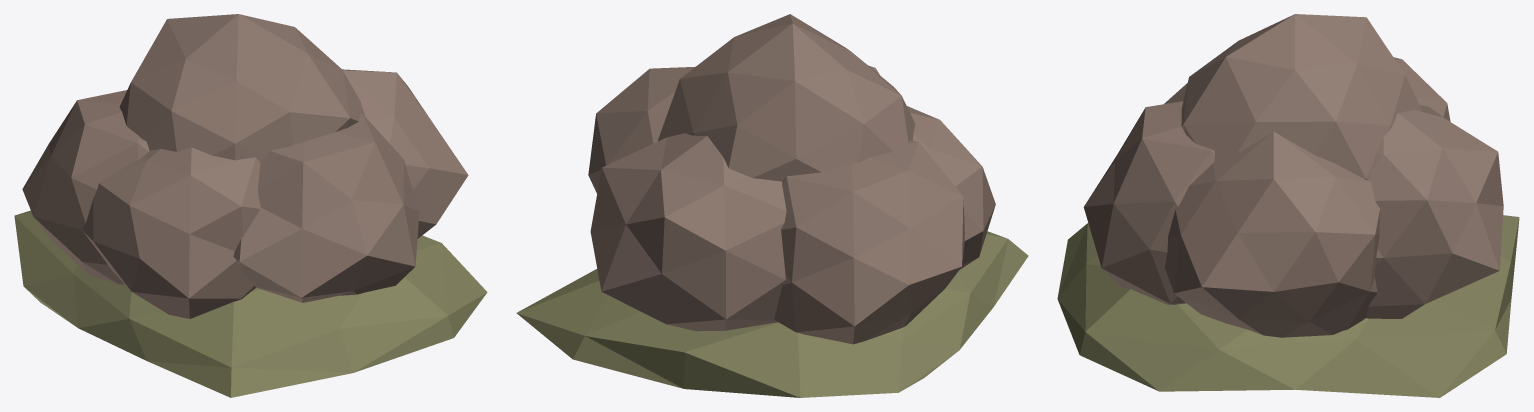
Rendered from vge_egg_sac_a.obj.
The picture shows the model from 3 angles, left to right: view 1: azimuth 30°, elevation 25°; view 2: azimuth 150°, elevation 25°; view 3: azimuth 270°, elevation 25°; orthographic projection. The views are drawn at different scales.
Visible parts, largest first — view 1: vge_egg_sac_a_0, vge_egg_sac_a_6, vge_egg_sac_a_5, vge_egg_sac_a_4, vge_egg_sac_a_3, vge_egg_sac_a_1; view 2: vge_egg_sac_a_0, vge_egg_sac_a_2, vge_egg_sac_a_3, vge_egg_sac_a_6, vge_egg_sac_a_1, vge_egg_sac_a_4; view 3: vge_egg_sac_a_0, vge_egg_sac_a_1, vge_egg_sac_a_6, vge_egg_sac_a_2, vge_egg_sac_a_5, vge_egg_sac_a_3.
Part boxes in pixels (x1=…): vge_egg_sac_a_0: x1=14, y1=210, x2=487, y2=397; vge_egg_sac_a_6: x1=119, y1=14, x2=365, y2=162; vge_egg_sac_a_5: x1=233, y1=113, x2=419, y2=302; vge_egg_sac_a_4: x1=82, y1=147, x2=260, y2=318; vge_egg_sac_a_3: x1=22, y1=90, x2=149, y2=284; vge_egg_sac_a_1: x1=342, y1=69, x2=468, y2=238; vge_egg_sac_a_0: x1=516, y1=231, x2=1028, y2=397; vge_egg_sac_a_2: x1=590, y1=133, x2=786, y2=331; vge_egg_sac_a_3: x1=774, y1=140, x2=964, y2=344; vge_egg_sac_a_6: x1=657, y1=14, x2=915, y2=181; vge_egg_sac_a_1: x1=588, y1=66, x2=695, y2=193; vge_egg_sac_a_4: x1=907, y1=106, x2=995, y2=269; vge_egg_sac_a_0: x1=1057, y1=215, x2=1519, y2=397; vge_egg_sac_a_1: x1=1165, y1=132, x2=1379, y2=337; vge_egg_sac_a_6: x1=1181, y1=14, x2=1422, y2=179; vge_egg_sac_a_2: x1=1366, y1=105, x2=1503, y2=318; vge_egg_sac_a_5: x1=1083, y1=101, x2=1214, y2=304; vge_egg_sac_a_3: x1=1393, y1=57, x2=1450, y2=121.
Size of the model in its own units: 0.7821 by 0.541 by 0.7951.
